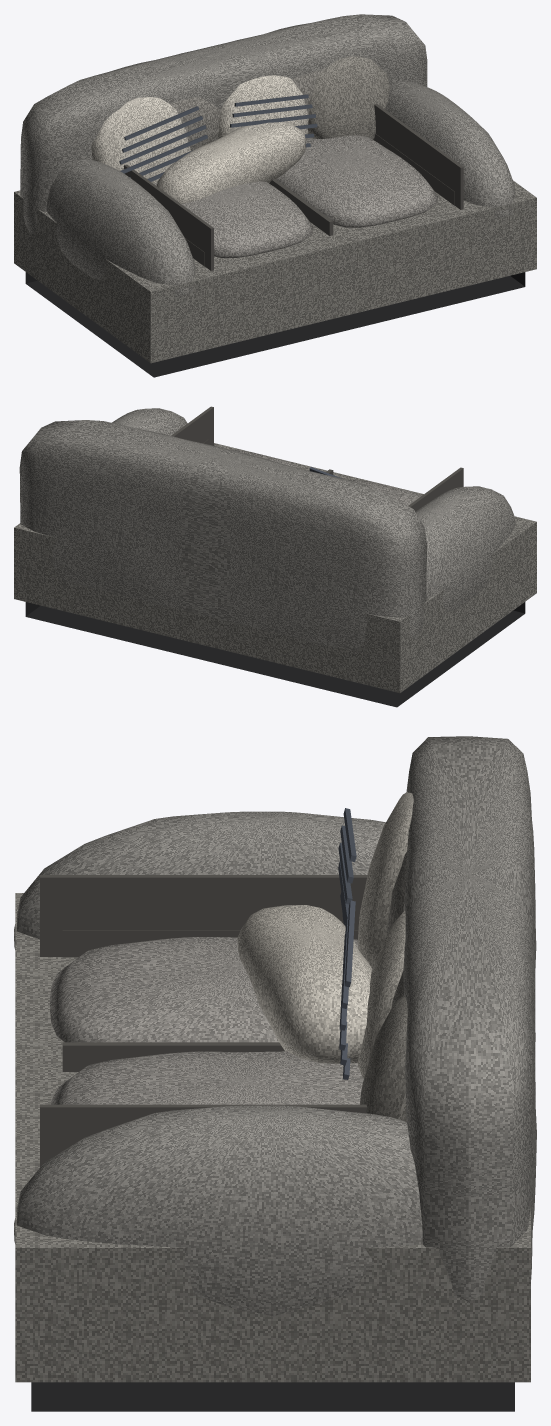
Rendered from sofa_es5.glb.
The picture shows the model from 3 angles, top to bottom: view 1: azimuth 30°, elevation 25°; view 2: azimuth 150°, elevation 25°; view 3: azimuth 270°, elevation 25°; orthographic projection. The views are drawn at different scales.
Parts seen in each view (by area): view 1: root; view 2: root; view 3: root.
Part boxes in pixels (x1,y1,x2,y2): root: [14, 14, 536, 377]; root: [14, 406, 536, 707]; root: [14, 736, 536, 1411].
Bounding box in the file's own units: 1.96 × 0.9316 × 1.2.
9 materials, 6 textured.
